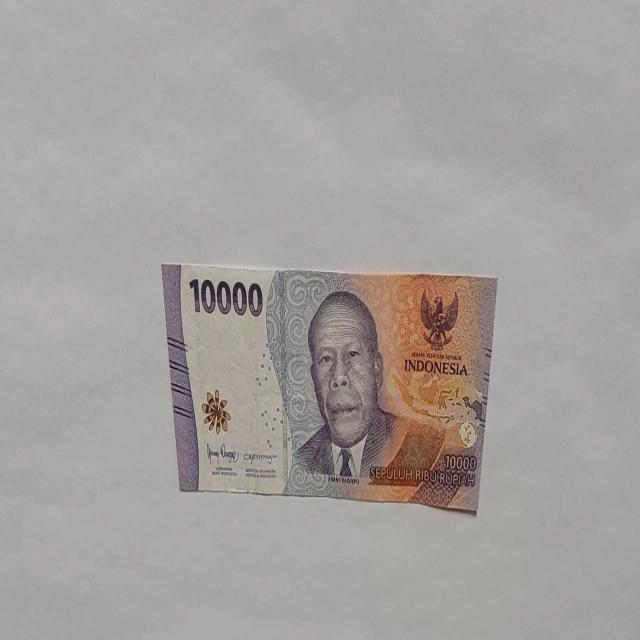sepuluh ribu rupiah: (161, 260, 498, 514), (289, 288, 400, 486)
